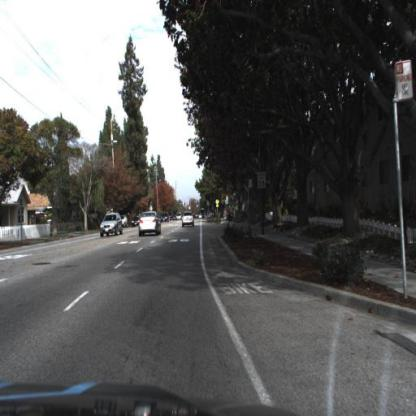car: (98, 211, 125, 239), (137, 211, 162, 239), (179, 213, 197, 232), (130, 214, 143, 232)
